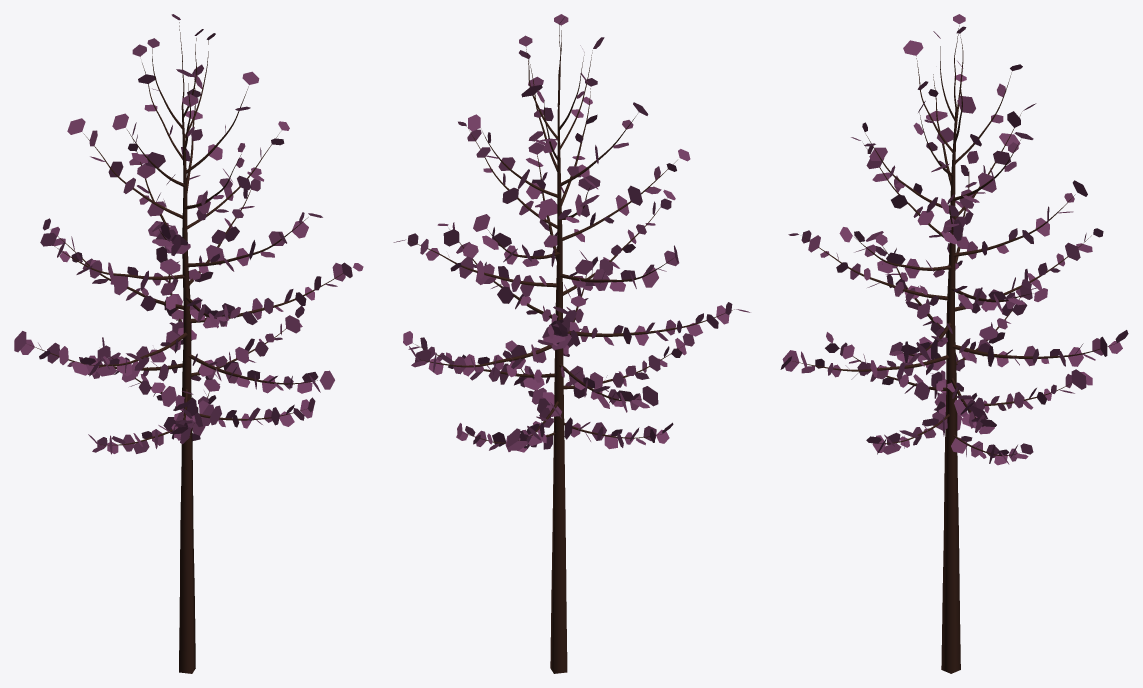
Rendered from Tree.glb.
3 views of the same model, side by side, from view 1: azimuth 30°, elevation 25°; view 2: azimuth 150°, elevation 25°; view 3: azimuth 270°, elevation 25° (orthographic).
Parts seen in each view (by area): view 1: leaves, tree; view 2: leaves, tree; view 3: leaves, tree.
Boxes of the visible parts, x1=… form: leaves: x1=14, y1=14, x2=363, y2=454; tree: x1=30, y1=22, x2=342, y2=673; leaves: x1=393, y1=14, x2=750, y2=452; tree: x1=409, y1=25, x2=734, y2=673; leaves: x1=780, y1=14, x2=1128, y2=465; tree: x1=792, y1=25, x2=1116, y2=673.
Bounding box in the file's own units: 8.39 × 17.52 × 8.49.
